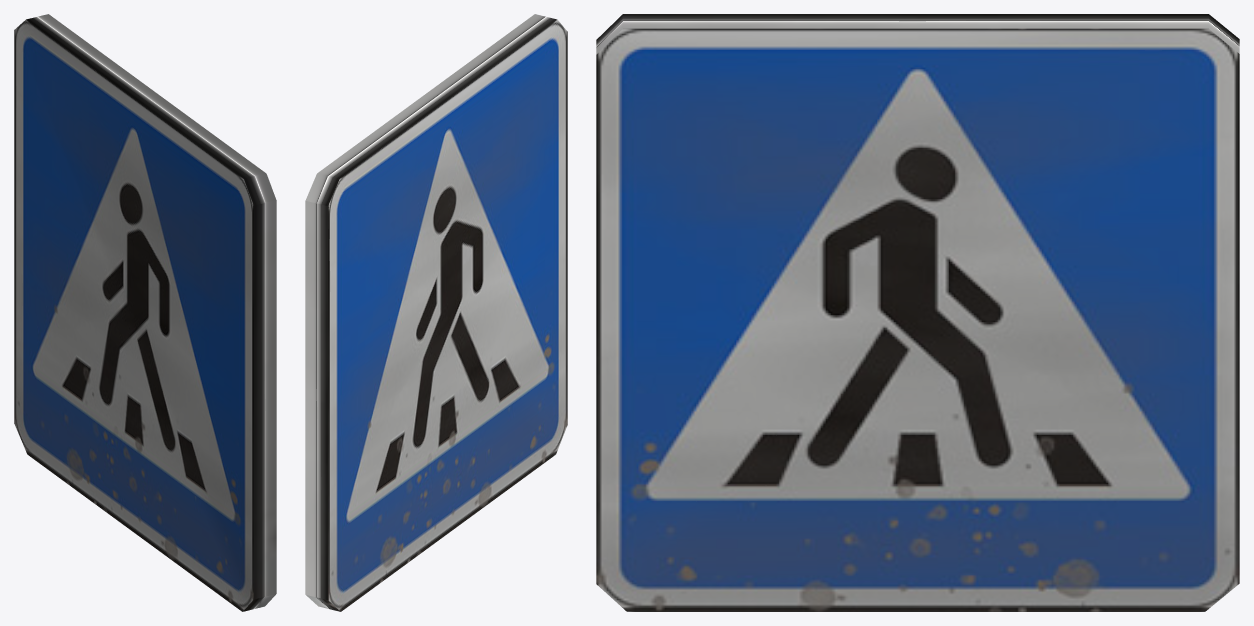
The model's file is pedestrianSign.fbx.
3 views of the same model, side by side, from view 1: azimuth 30°, elevation 25°; view 2: azimuth 150°, elevation 25°; view 3: azimuth 270°, elevation 25° (orthographic). The views are drawn at different scales.
Visible parts, largest first — view 1: Cube; view 2: Cube; view 3: Cube.
Part boxes in pixels (x1=…): Cube: x1=14, y1=14, x2=276, y2=611; Cube: x1=305, y1=14, x2=567, y2=611; Cube: x1=596, y1=14, x2=1239, y2=611.
Size of the model in its own units: 5.45 by 100 by 100.
